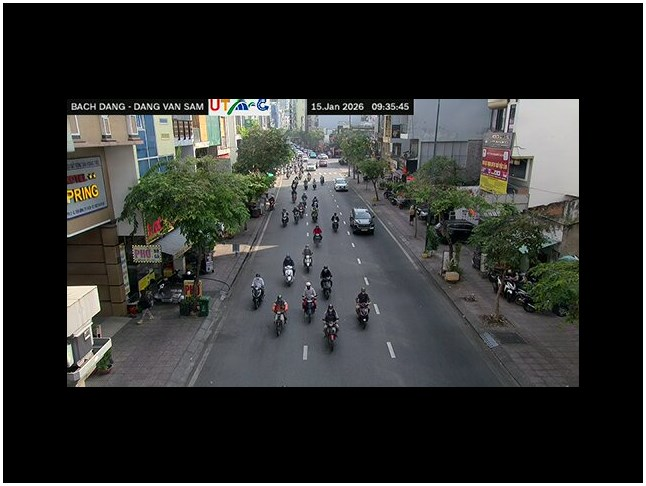car: (351, 207, 375, 235), (335, 177, 348, 191)
motorbike: (356, 299, 372, 330)
